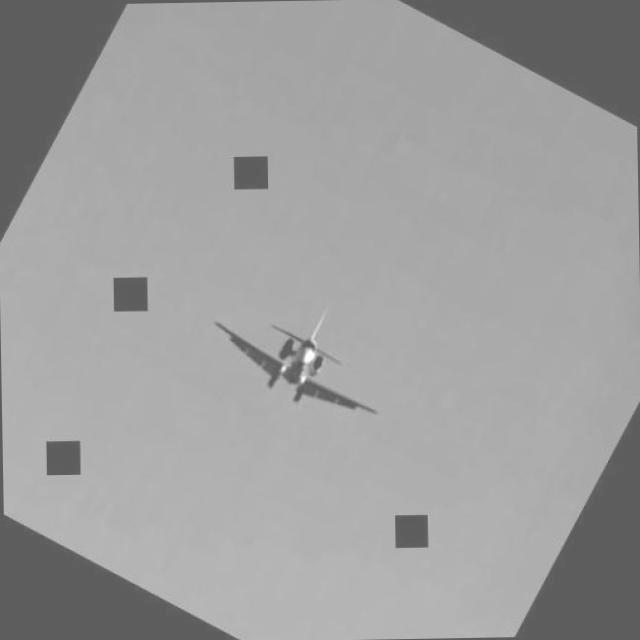aeroplane: (211, 309, 381, 424)
